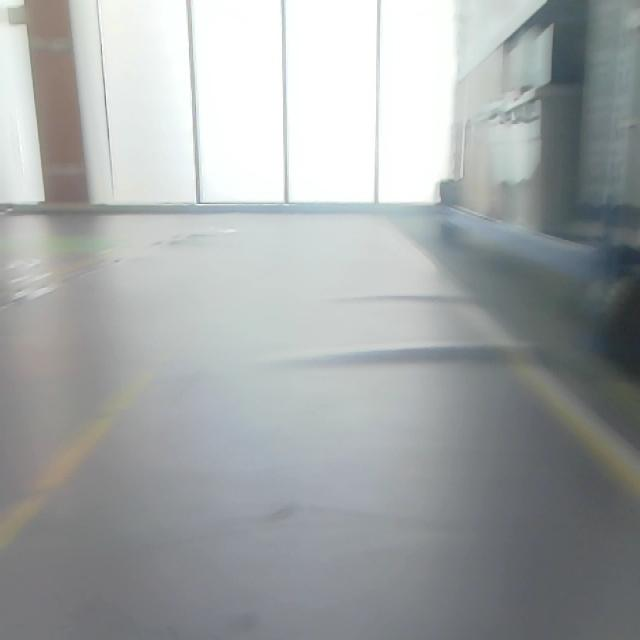left_lane: (2, 291, 212, 557)
right_lane: (376, 216, 637, 501)
